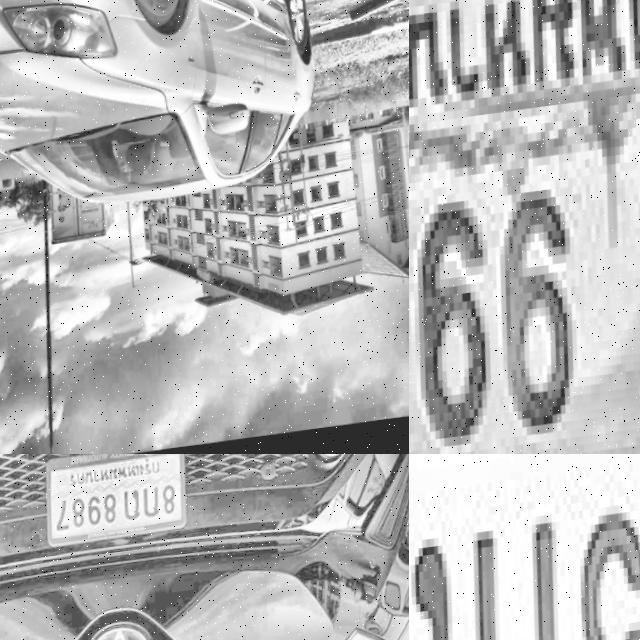license-plate: (409, 0, 640, 454), (409, 454, 640, 640), (35, 454, 195, 552)
